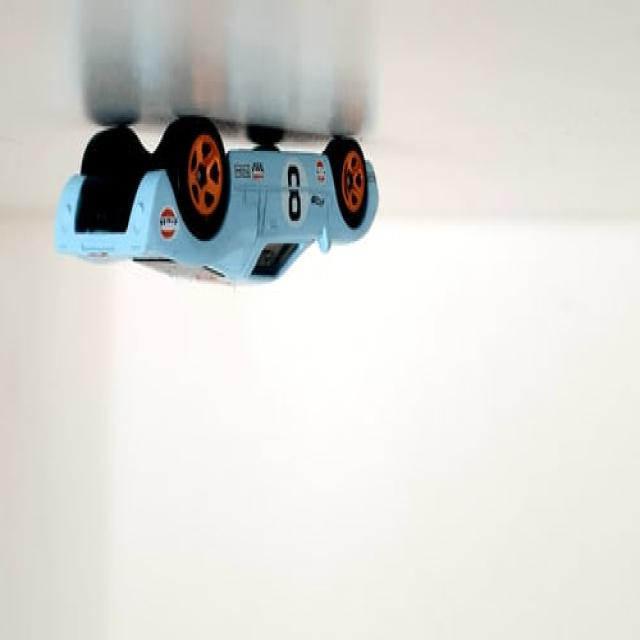Car: (55, 117, 380, 291)
